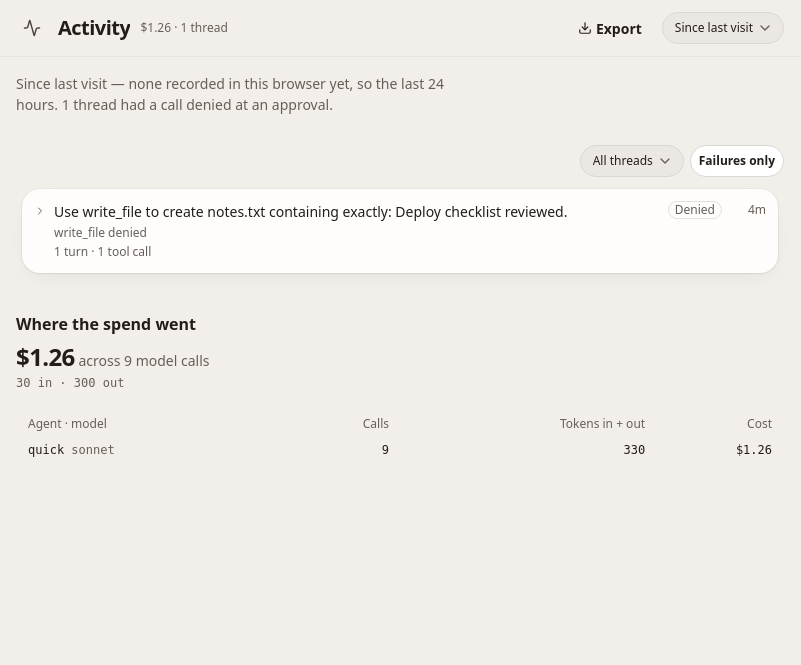
Scenario: a thread whose only miss was a denial › draws the row with no red, says what happened, and keeps the title whole
The width and height of the screenshot is (801, 665).
Expected: the text "1 thread had a call denied at an approval." is shown, top-left (62, 95), bottom-right (333, 114)
Click the button named "Denied" at x=311, y=212, box top-left (22, 189), bottom-right (778, 273)
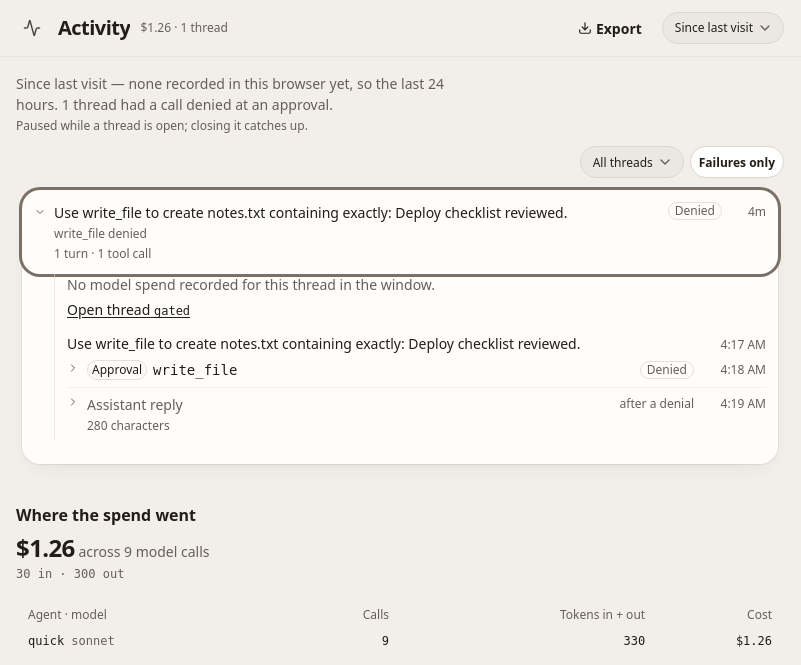
Result: the text "Approval" is shown at top-left (87, 360), bottom-right (147, 380)
Result: the 2nd text "Denied" is shown at top-left (640, 361), bottom-right (694, 379)
Result: the text "after a denial" is shown at top-left (620, 395), bottom-right (694, 413)
